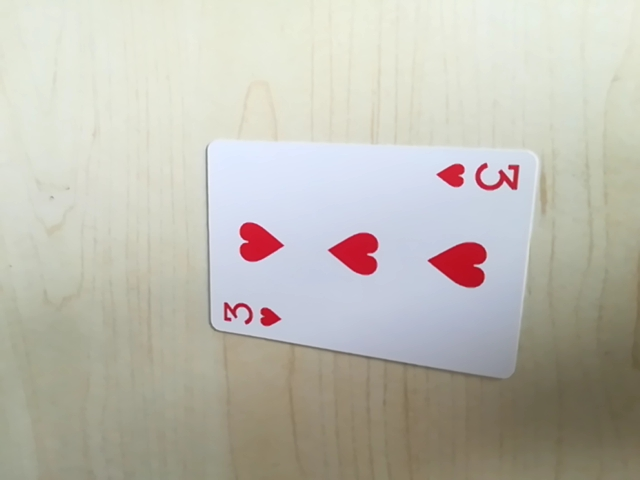hx 3: (433, 154, 526, 200), (216, 296, 288, 332)
